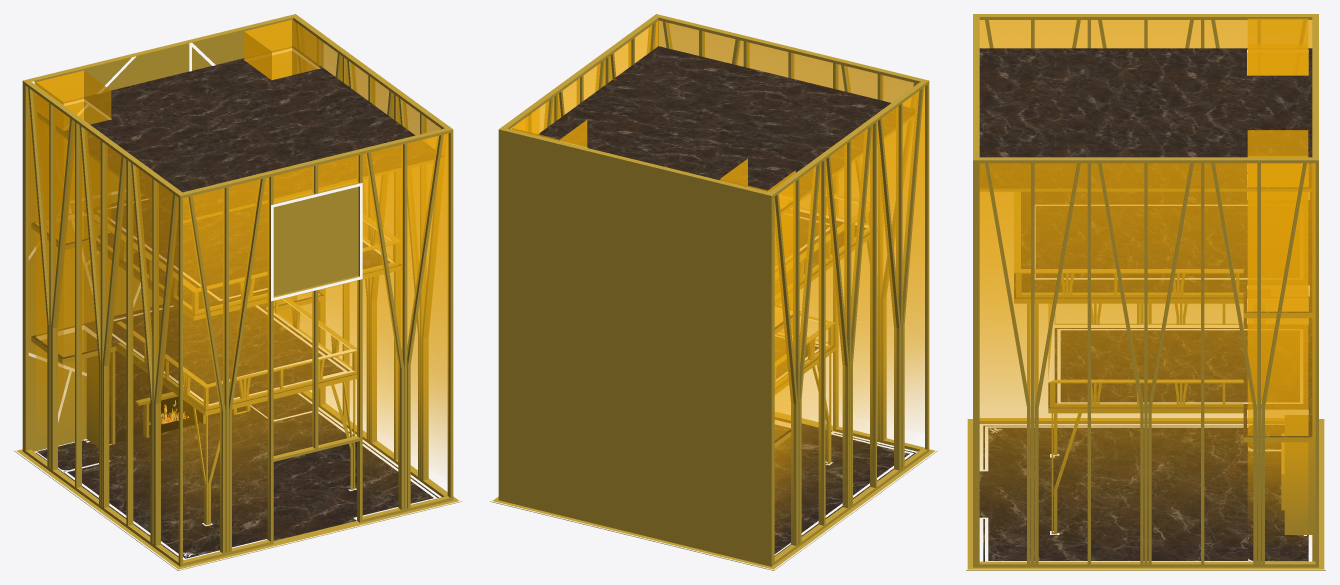
The model's file is Dhingia Builds 05 gold size 1x1.glb.
3 renders of one model, left to right at view 1: azimuth 30°, elevation 25°; view 2: azimuth 150°, elevation 25°; view 3: azimuth 270°, elevation 25°, orthographic. The views are drawn at different scales.
Visible parts, largest first — view 1: Mesh_1, Mesh_4, Mesh_7, Mesh_2, Mesh_0.001, Mesh_5, Mesh_6, Mesh_8, Mesh_11, Lift, Mesh_3, Mesh_9 (+1 smaller); view 2: Mesh_4, Mesh_1, Mesh_7, Mesh_2, Mesh_0.001, Mesh_6, Mesh_5, Mesh_11, Mesh_8, Mesh_9; view 3: Mesh_1, Mesh_7, Mesh_4, Mesh_2, Mesh_0.001, Mesh_6, Mesh_5, Mesh_8, Mesh_11, Lift, Mesh_10.
Boxes of the visible parts, bbox=[...] form: Mesh_1: bbox=[28, 21, 448, 504]; Mesh_4: bbox=[22, 14, 453, 566]; Mesh_7: bbox=[37, 46, 444, 222]; Mesh_2: bbox=[14, 390, 461, 570]; Mesh_0.001: bbox=[36, 20, 319, 420]; Mesh_5: bbox=[31, 291, 356, 415]; Mesh_6: bbox=[31, 196, 401, 320]; Mesh_8: bbox=[116, 298, 356, 409]; Mesh_11: bbox=[94, 213, 401, 314]; Lift: bbox=[37, 393, 312, 471]; Mesh_3: bbox=[28, 42, 215, 422]; Mesh_9: bbox=[193, 407, 219, 525]; Mesh_4: bbox=[498, 14, 929, 566]; Mesh_1: bbox=[511, 20, 924, 501]; Mesh_7: bbox=[539, 46, 914, 214]; Mesh_2: bbox=[490, 411, 937, 570]; Mesh_0.001: bbox=[512, 108, 795, 486]; Mesh_6: bbox=[775, 212, 877, 333]; Mesh_5: bbox=[774, 334, 835, 447]; Mesh_11: bbox=[800, 192, 877, 282]; Mesh_8: bbox=[775, 314, 835, 388]; Mesh_9: bbox=[812, 354, 831, 464]; Mesh_1: bbox=[979, 20, 1315, 500]; Mesh_7: bbox=[979, 48, 1312, 191]; Mesh_4: bbox=[973, 14, 1318, 567]; Mesh_2: bbox=[966, 418, 1325, 570]; Mesh_0.001: bbox=[1247, 18, 1308, 508]; Mesh_6: bbox=[1014, 173, 1311, 317]; Mesh_5: bbox=[1048, 297, 1312, 442]; Mesh_8: bbox=[1048, 304, 1243, 407]; Mesh_11: bbox=[1014, 192, 1243, 297]; Lift: bbox=[1248, 425, 1307, 561]; Mesh_10: bbox=[1051, 413, 1081, 534].
Size of what is drawn, in the model's own units: 16 by 20 by 16.
7 materials, 3 textured.
